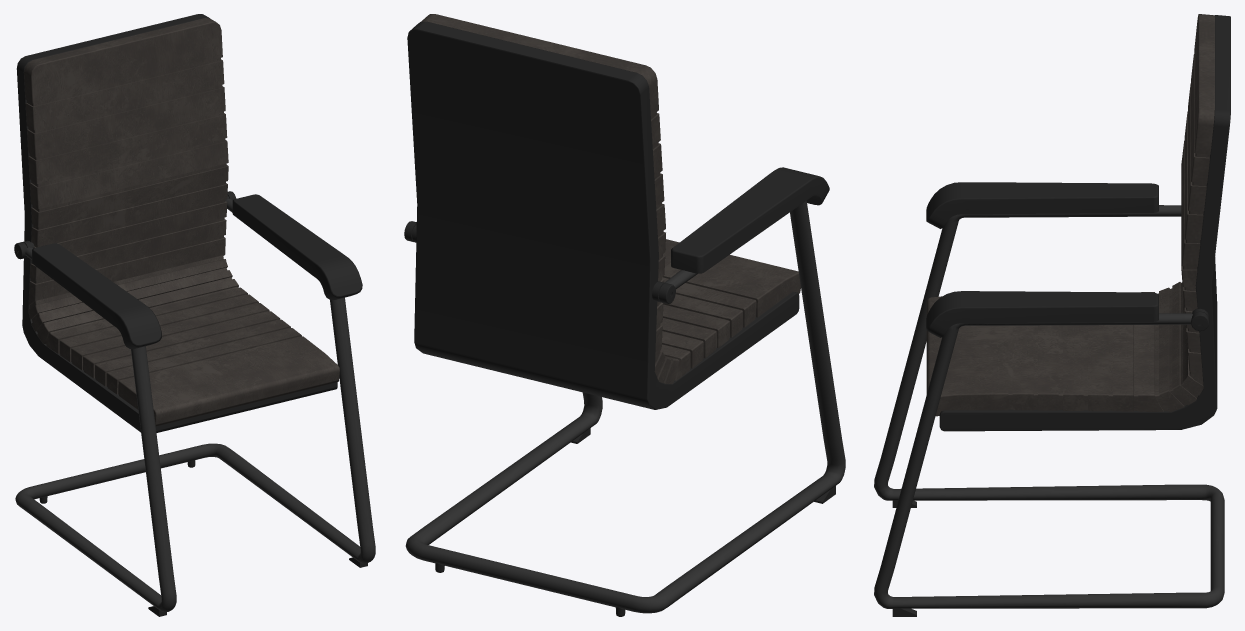
Rendered from chair.fbx.
The picture shows the model from 3 angles, left to right: view 1: azimuth 30°, elevation 25°; view 2: azimuth 150°, elevation 25°; view 3: azimuth 270°, elevation 25°; orthographic projection. The views are drawn at different scales.
Parts seen in each view (by area): view 1: chair_lo; view 2: chair_lo; view 3: chair_lo.
Boxes of the visible parts, <box> form: chair_lo: <box>14,14,375,616</box>; chair_lo: <box>404,14,845,616</box>; chair_lo: <box>874,14,1230,616</box>.
Bounding box in the file's own units: 0.8741 × 1.61 × 1.04.
